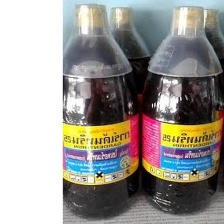insecticide: (135, 1, 224, 219), (57, 2, 142, 221), (89, 4, 154, 167), (169, 6, 223, 180)
